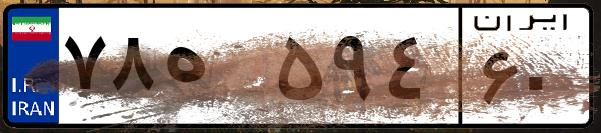0: (525, 38, 570, 115)
4: (385, 28, 445, 110)
5: (270, 28, 330, 110)
6: (475, 38, 525, 113)
7: (57, 26, 110, 100)
8: (110, 28, 158, 98)
9: (330, 28, 385, 110)
ه: (158, 20, 270, 120)
